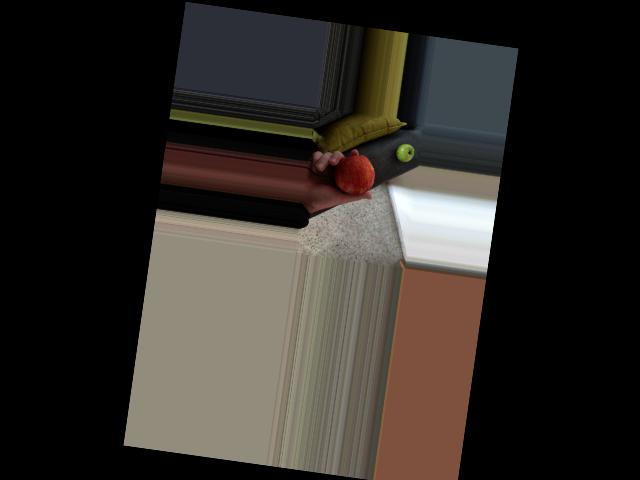apple: (390, 136, 417, 164)
